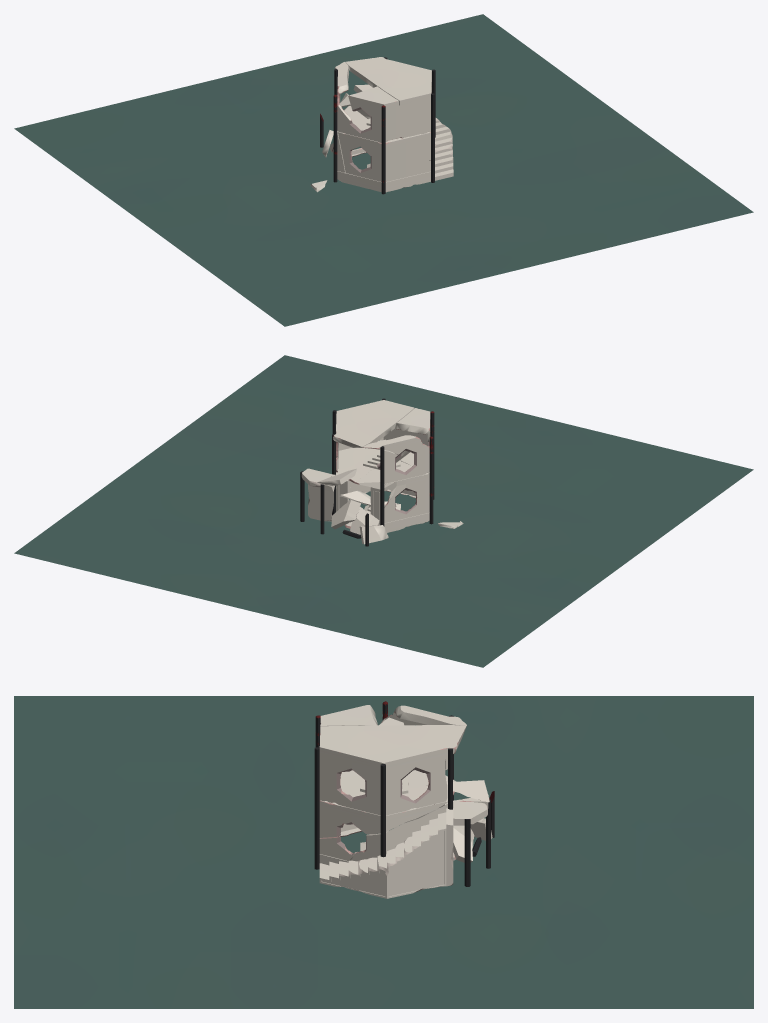
File: tiny_puzzle1.0.gltf
The picture shows the model from 3 angles, top to bottom: view 1: azimuth 30°, elevation 25°; view 2: azimuth 150°, elevation 25°; view 3: azimuth 270°, elevation 25°; orthographic projection. The views are drawn at different scales.
Visible parts, largest first — view 1: stairs; view 2: stairs; view 3: stairs.
Boxes of the visible parts, x1=… form: stairs: x1=14, y1=14, x2=753, y2=326; stairs: x1=14, y1=355, x2=753, y2=667; stairs: x1=14, y1=696, x2=753, y2=1008.
Bounding box in the file's own units: 50 × 9.05 × 50.
1 material, 1 textured.
